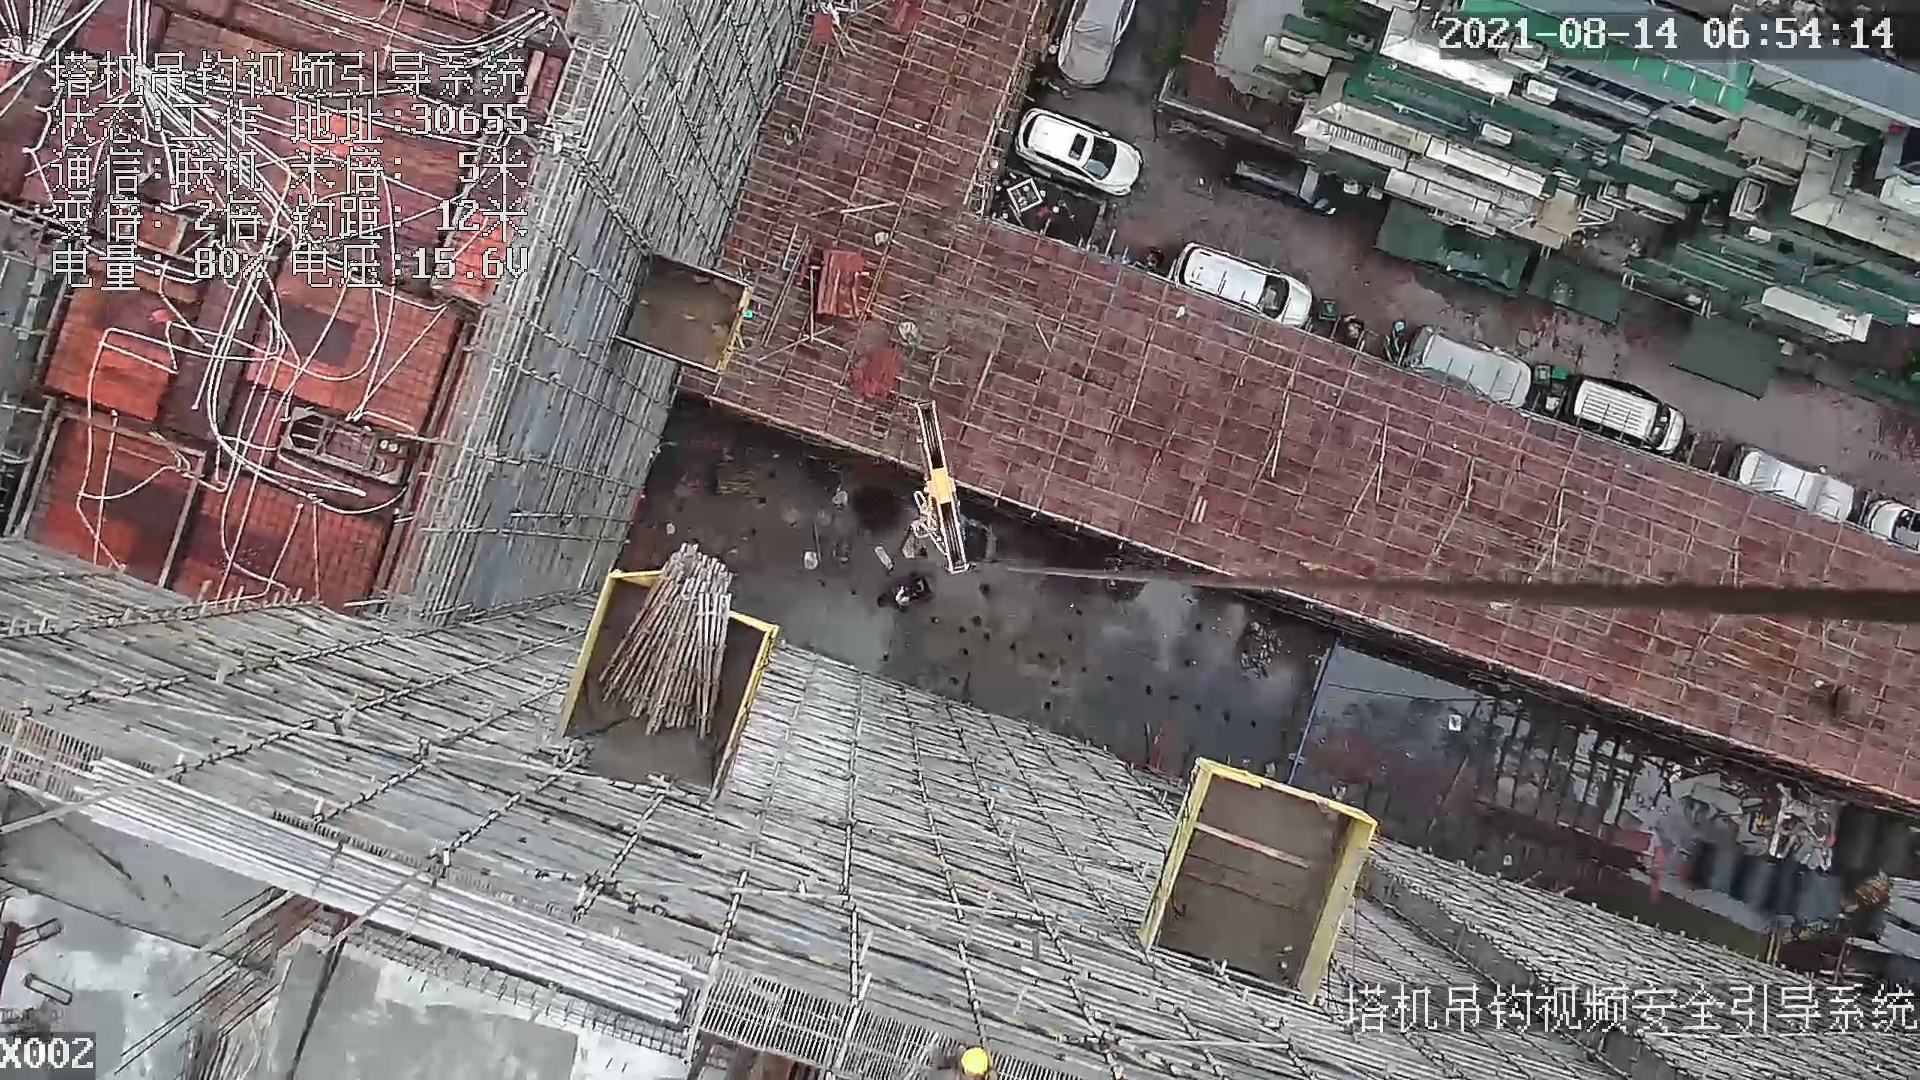helmet: (960, 1048, 989, 1074)
hook: (909, 391, 976, 578)
person: (946, 1051, 1001, 1080)
rebar: (73, 761, 692, 1027)
scaffold: (596, 539, 731, 743)
